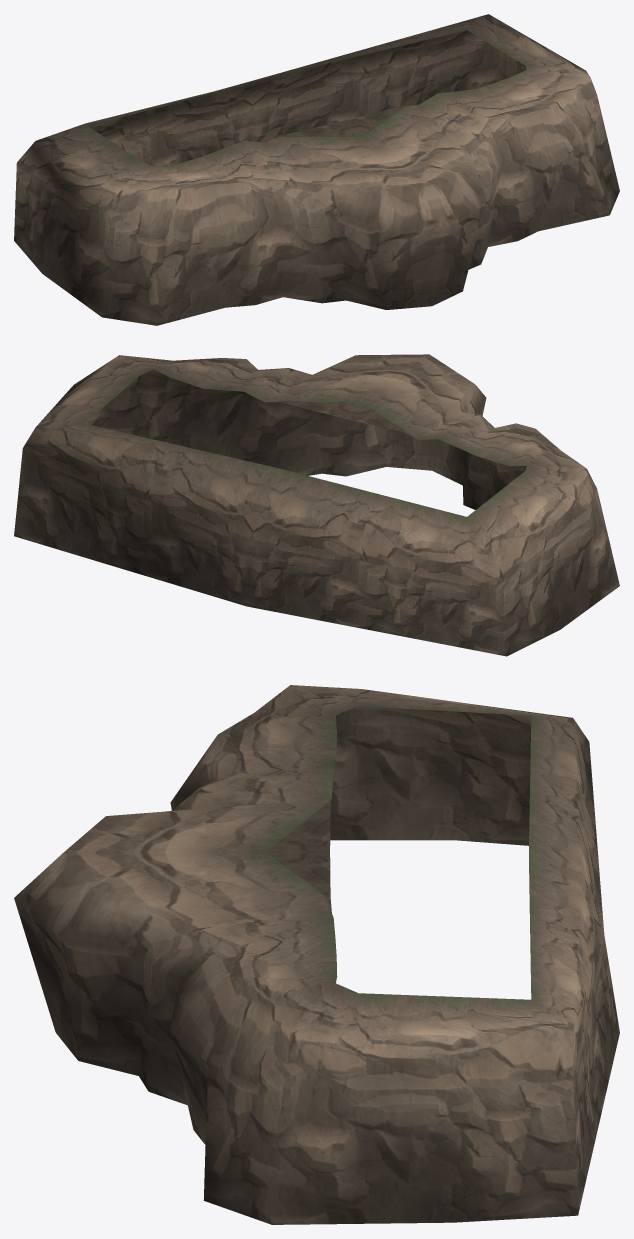
The model's file is Terrain01_Build_LostTemple_002.FBX.
3 views of the same model, one above another, from view 1: azimuth 30°, elevation 25°; view 2: azimuth 150°, elevation 25°; view 3: azimuth 270°, elevation 25° (orthographic). The views are drawn at different scales.
Parts seen in each view (by area): view 1: Terrain01_Build_LostTemple_002; view 2: Terrain01_Build_LostTemple_002; view 3: Terrain01_Build_LostTemple_002.
Part boxes in pixels (bbox=[...]): Terrain01_Build_LostTemple_002: bbox=[14, 14, 619, 325]; Terrain01_Build_LostTemple_002: bbox=[14, 354, 619, 656]; Terrain01_Build_LostTemple_002: bbox=[14, 685, 619, 1224].
Size of the model in its own units: 14353 by 3267 by 9553.
1 material, 1 textured.
